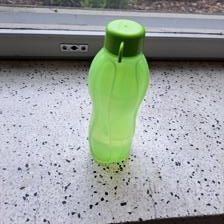bottle: (86, 16, 152, 165)
